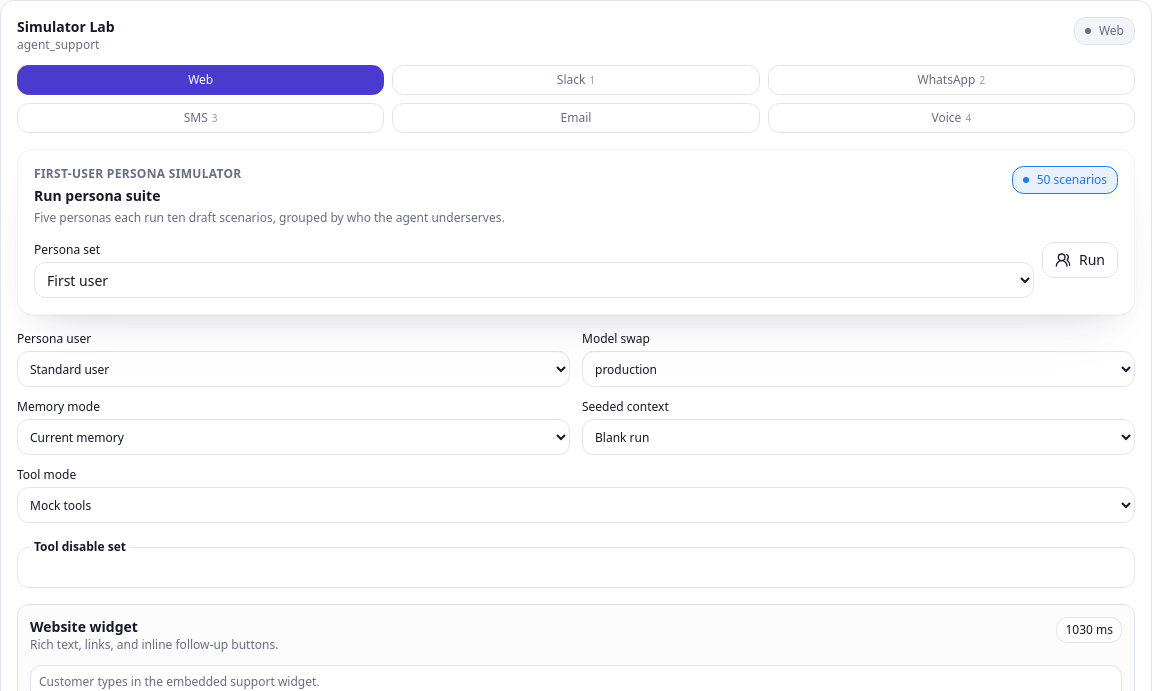
Test: SimulatorLab › runs the first-user persona suite from the simulator surface
Expected: the element with test id "persona-simulator-panel" shows "Run persona suite", [34,186,160,205]
Step 1. Click the button with test id "run-persona-suite" → (1080, 260), box [1042,242,1118,278]
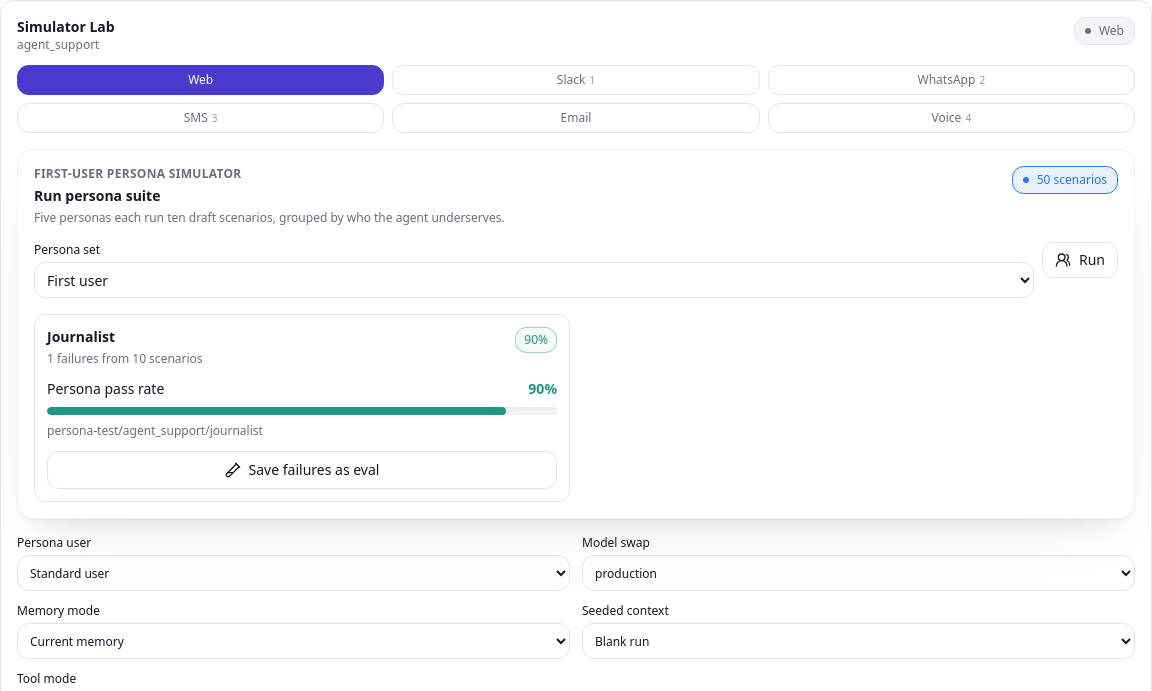
Result: the element with test id "persona-results" shows "Journalist" at [47,327,115,346]
Step 2. Click the button with test id "save-persona-eval-journalist" → (302, 470), box [47,451,557,489]
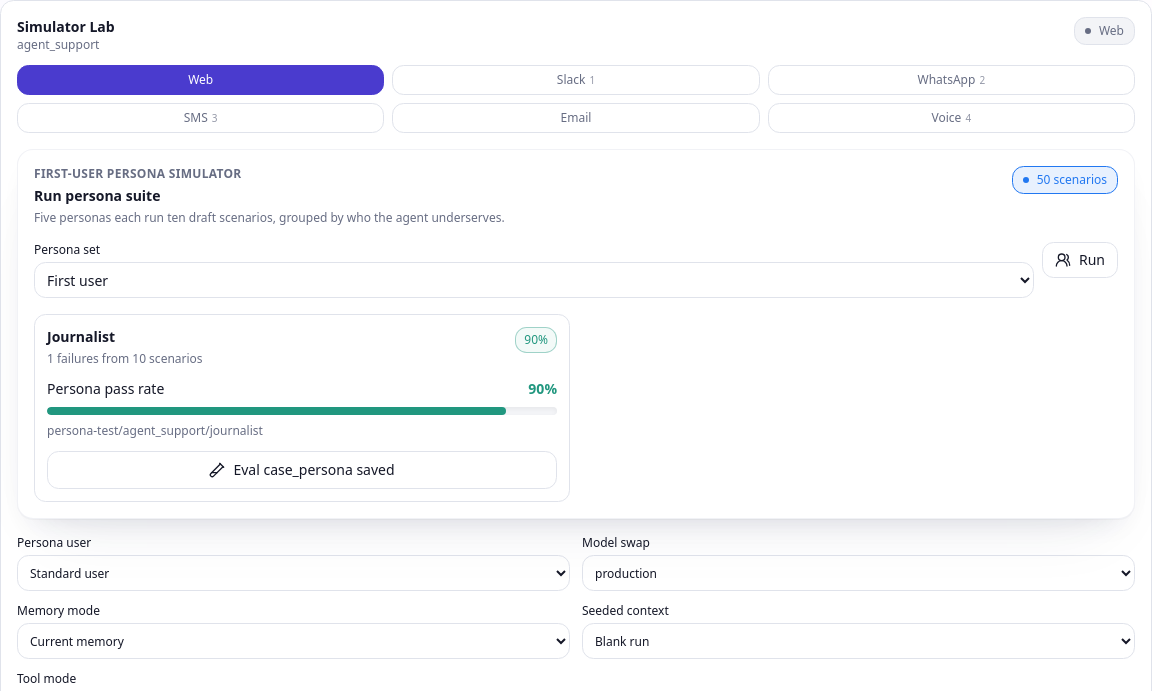
Result: the button "Eval case_persona saved" is shown at [47,451,557,489]
